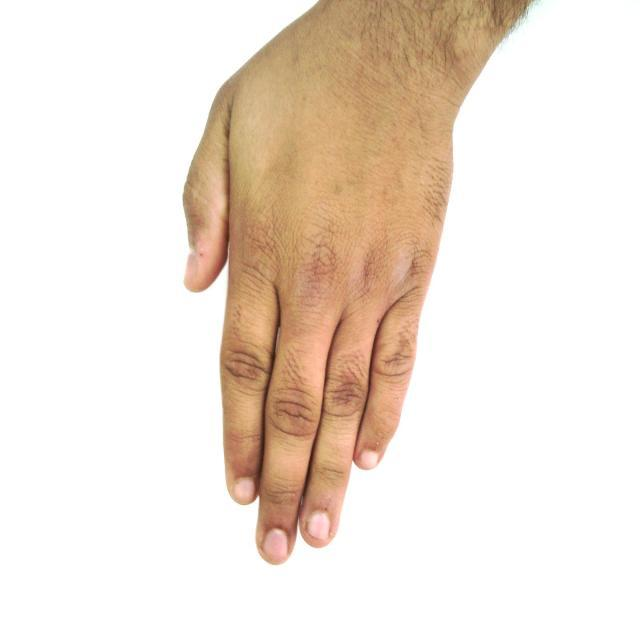Fingernail: (264, 530, 288, 561), (308, 512, 329, 540), (235, 480, 254, 502), (185, 254, 197, 284), (360, 451, 377, 467)
